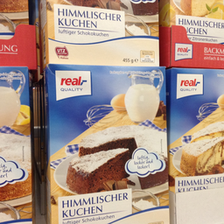cake: (42, 68, 172, 224), (167, 64, 224, 208)
